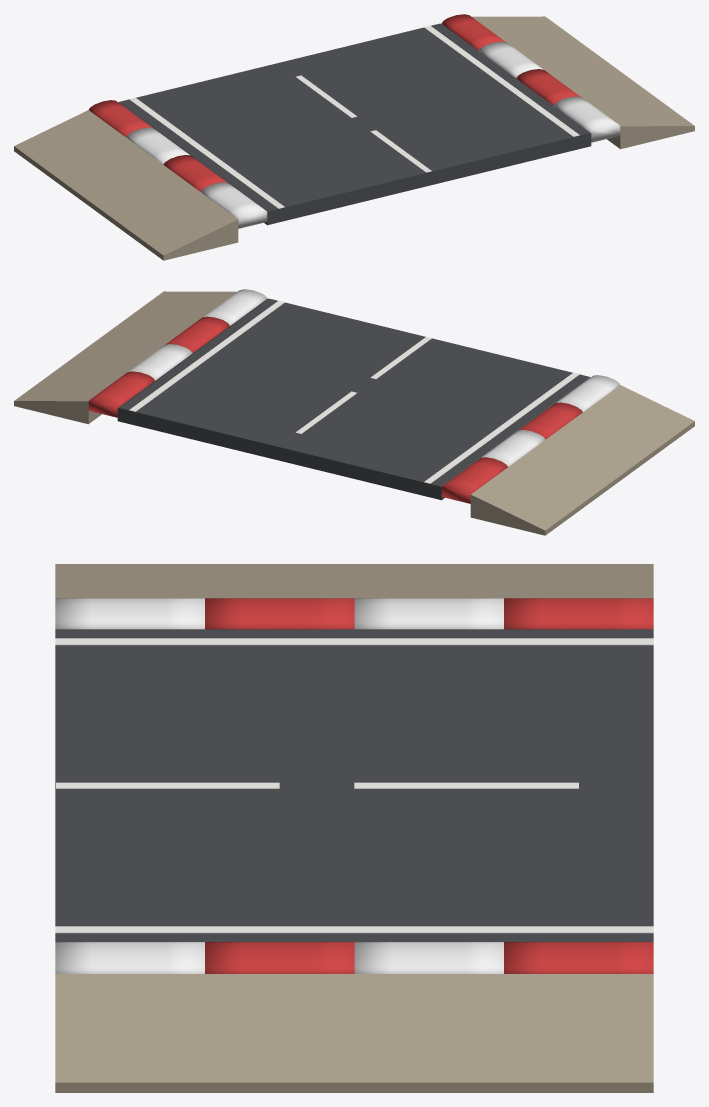
File: road.glb
3 views of the same model, one above another, from view 1: azimuth 30°, elevation 25°; view 2: azimuth 150°, elevation 25°; view 3: azimuth 270°, elevation 25° (orthographic). The views are drawn at different scales.
Size of the model in its own units: 16.4 by 0.8299 by 8.
